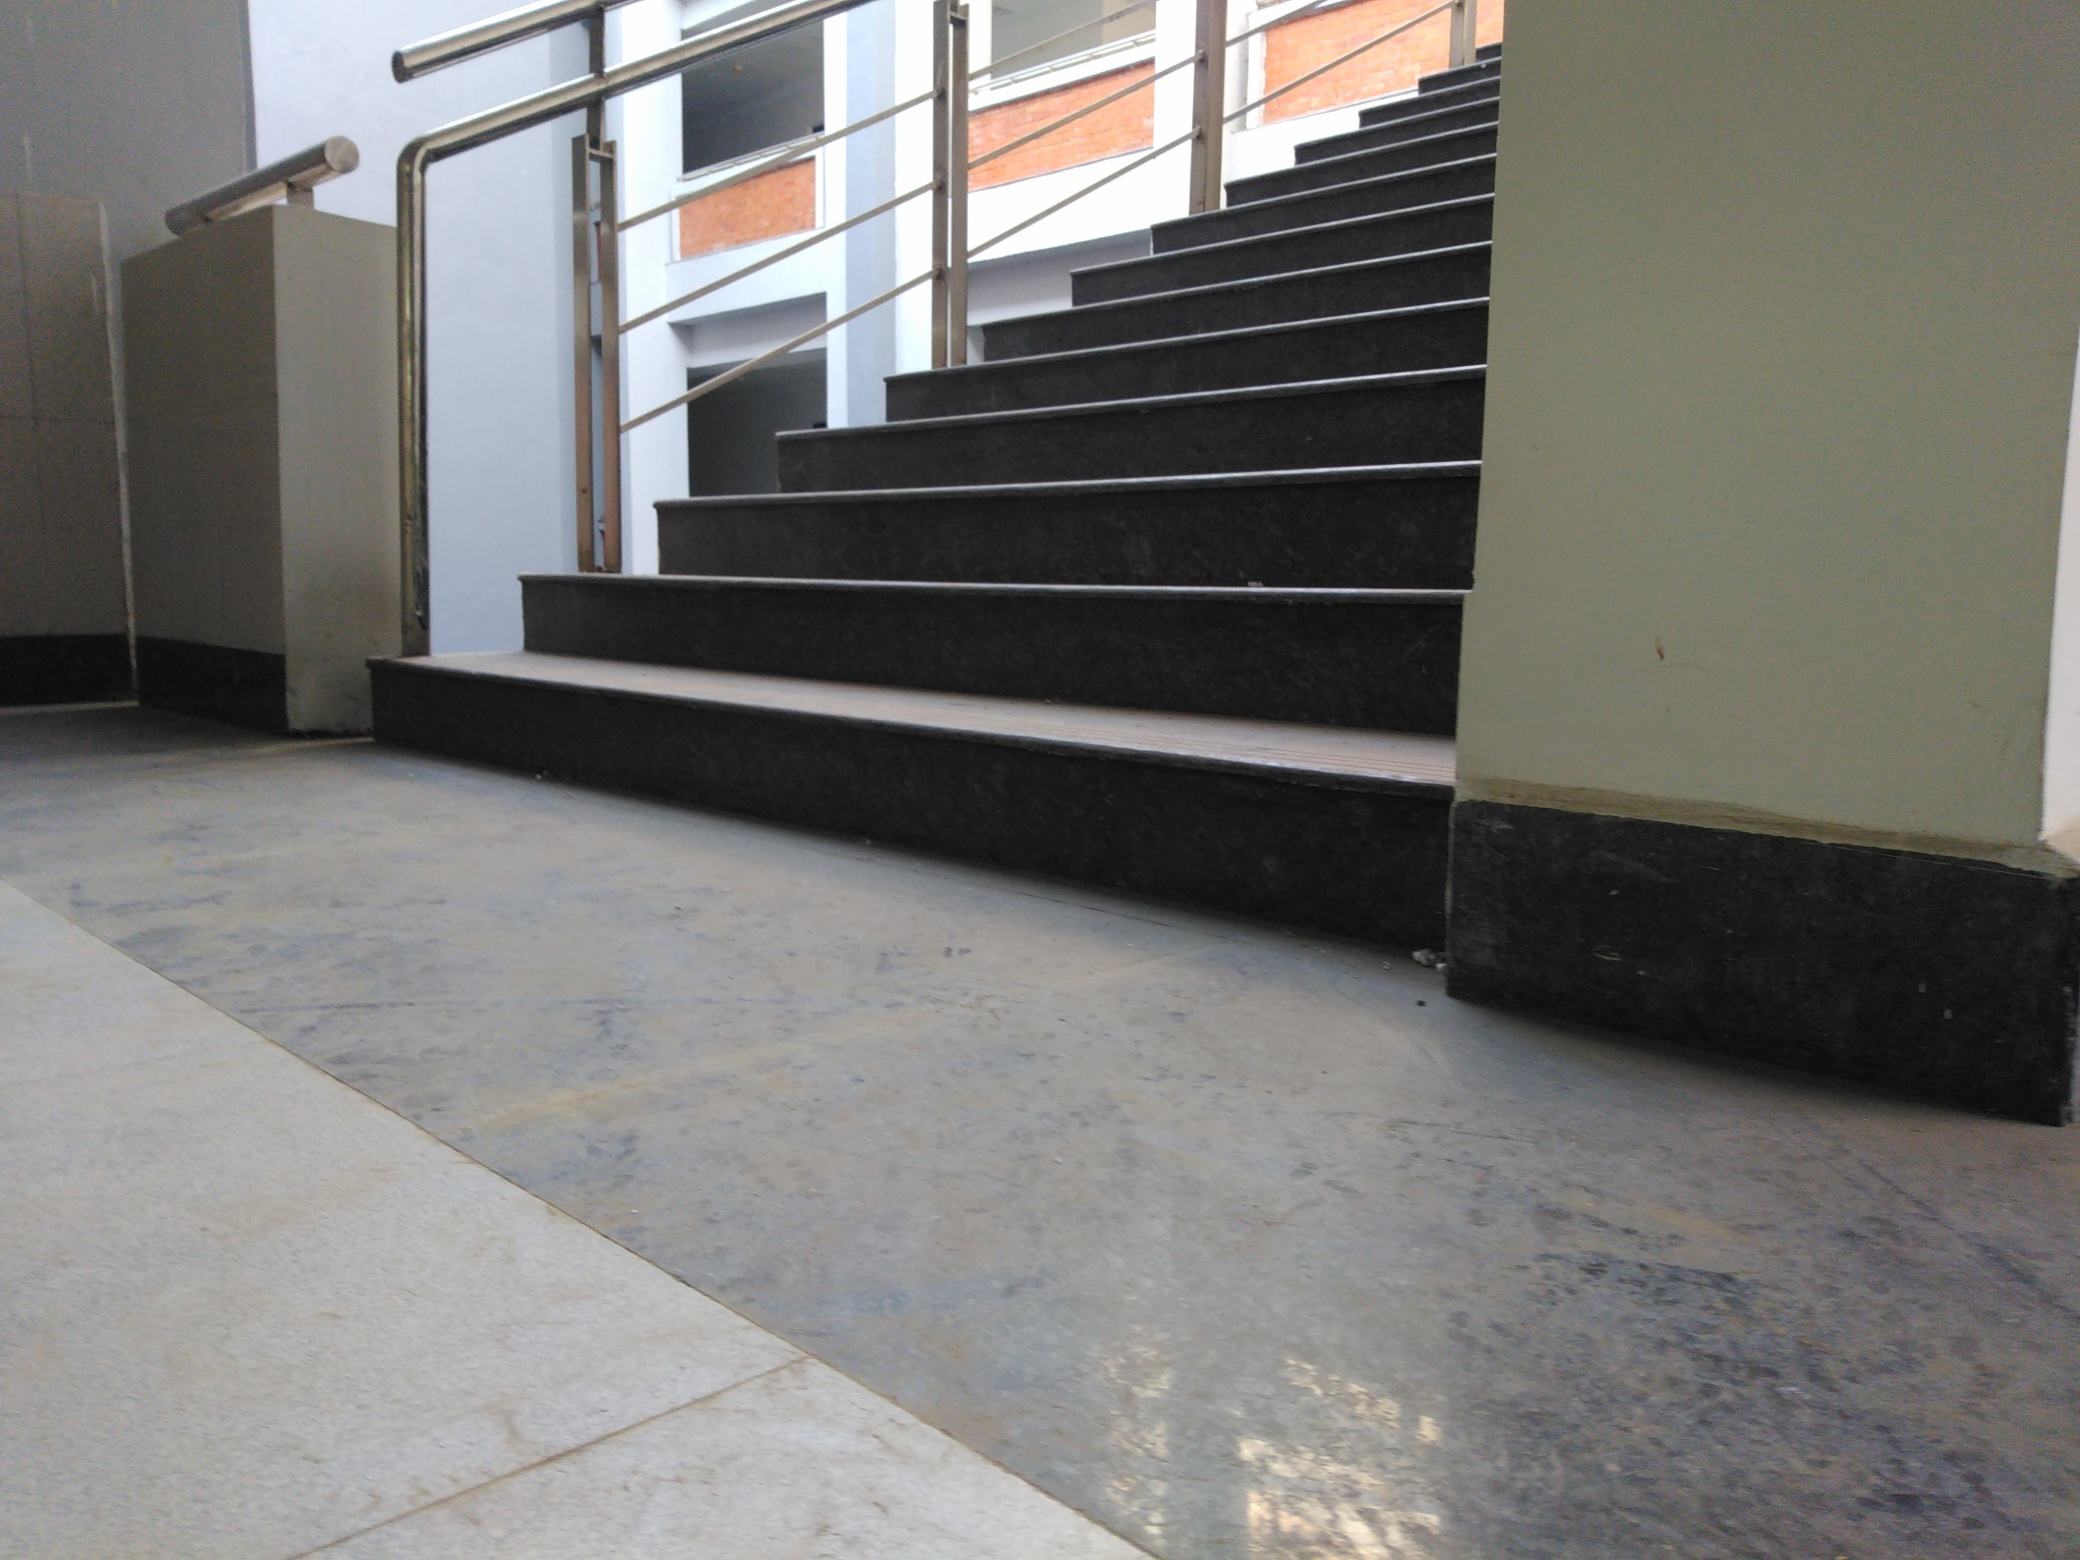stairs_up: (326, 80, 1476, 913)
